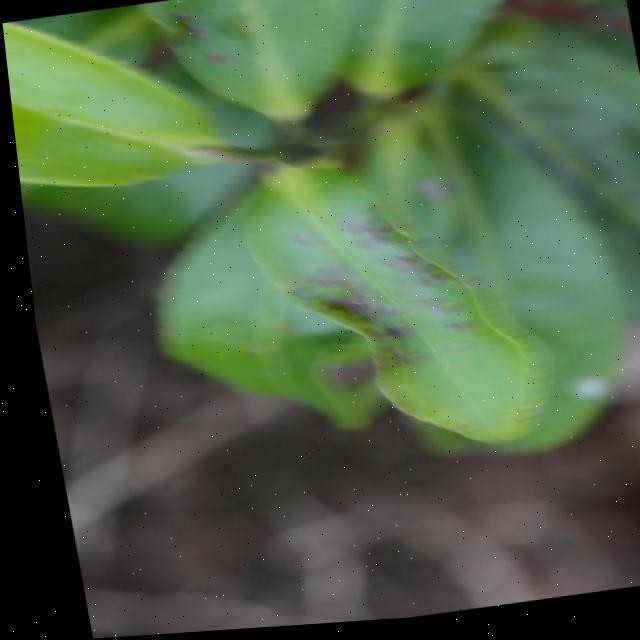Tea red scab: (275, 205, 458, 379)
